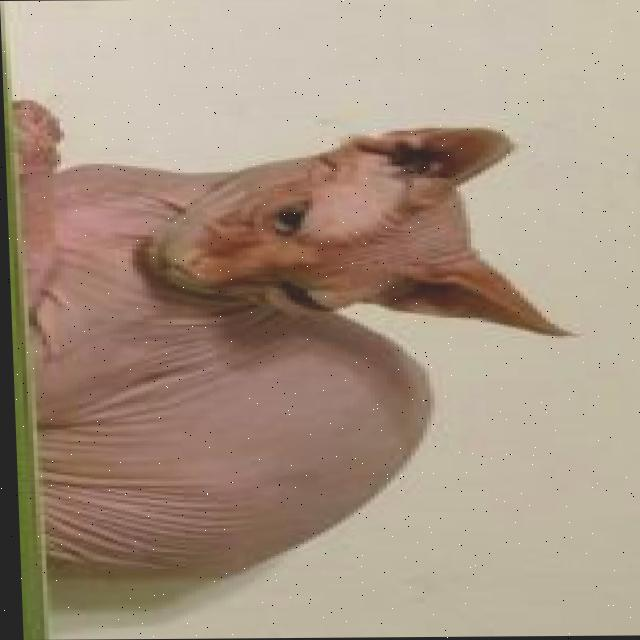Sphynx: (24, 93, 585, 582)
